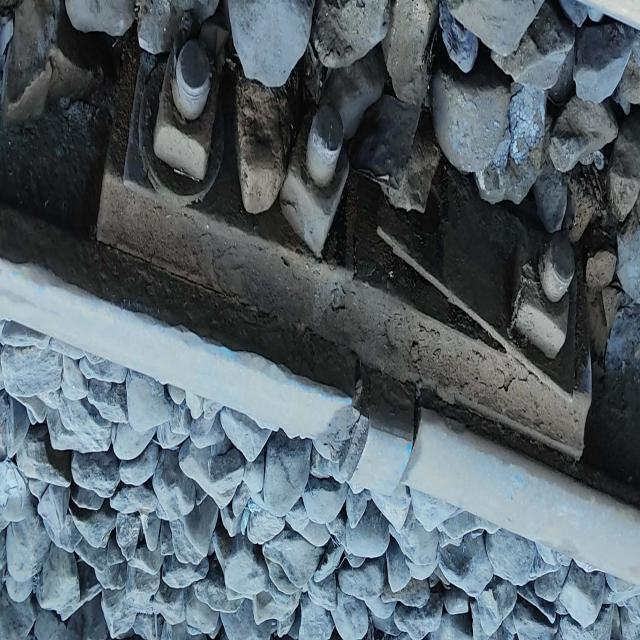Defective Joint: (97, 24, 592, 458)
